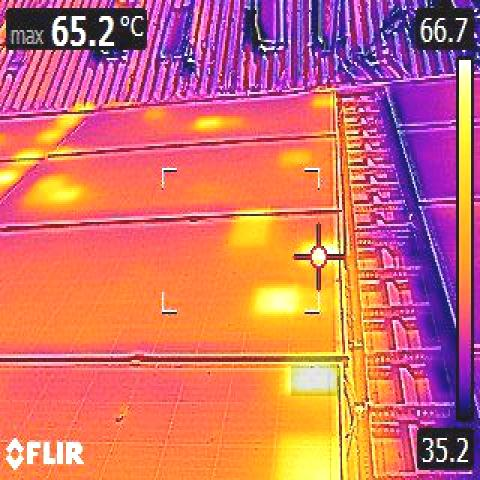fault: (291, 366, 338, 396)
